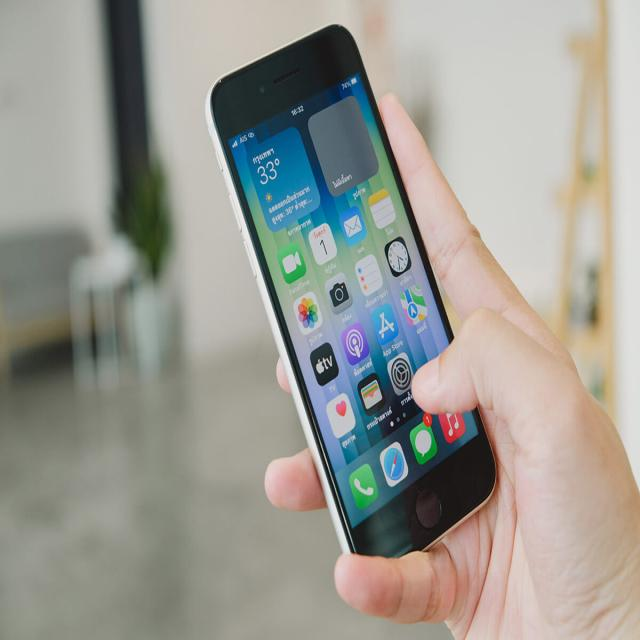mobile phone: (203, 22, 498, 560)
